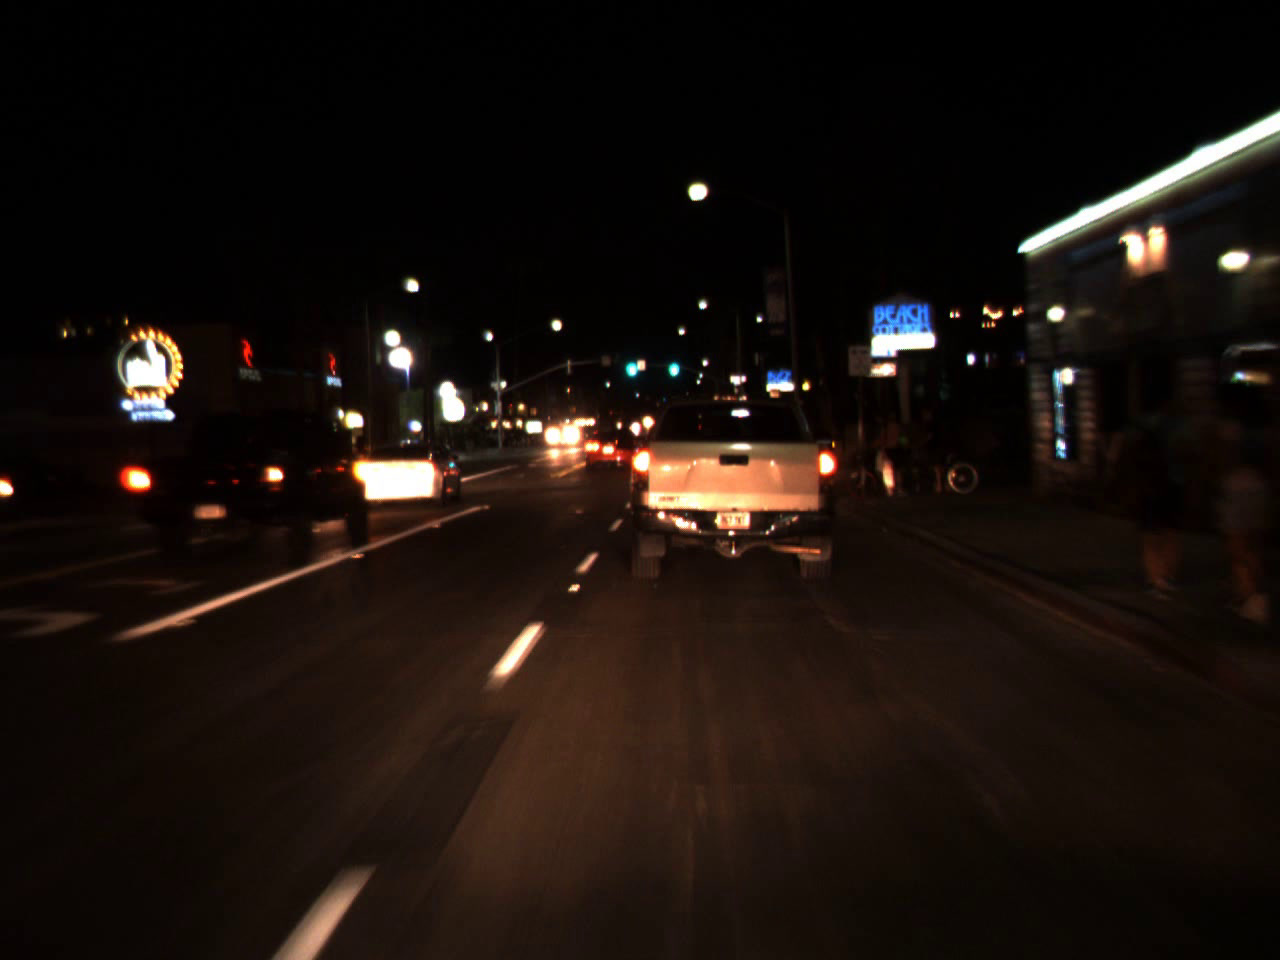go: (621, 346, 640, 382), (665, 347, 681, 380)
